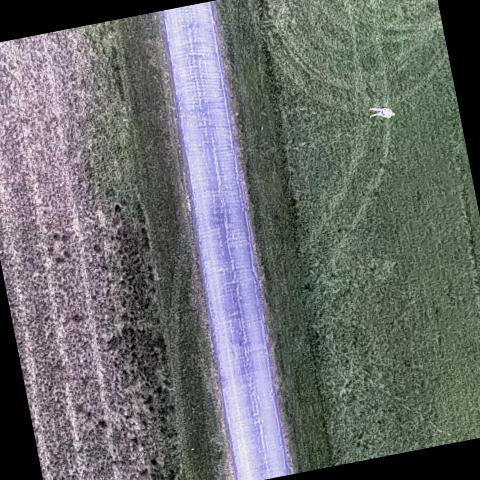person: (366, 104, 395, 125)
